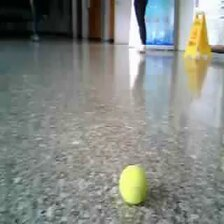tennis: (118, 165, 151, 205)
